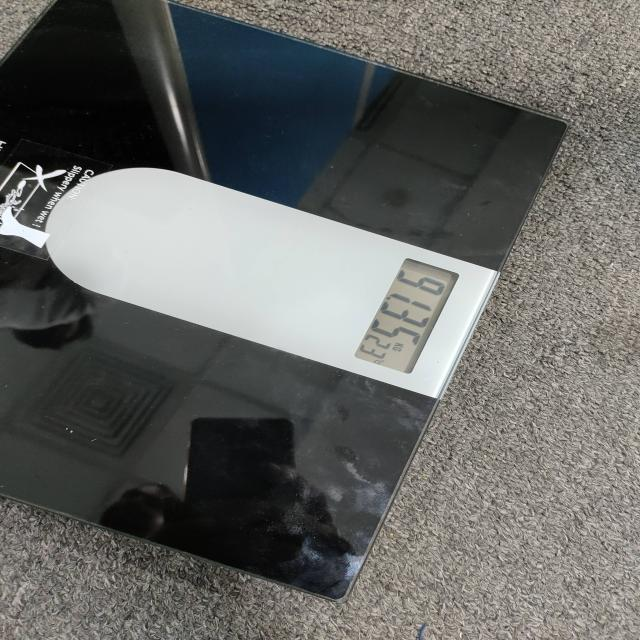ws: (0, 48, 553, 560)
